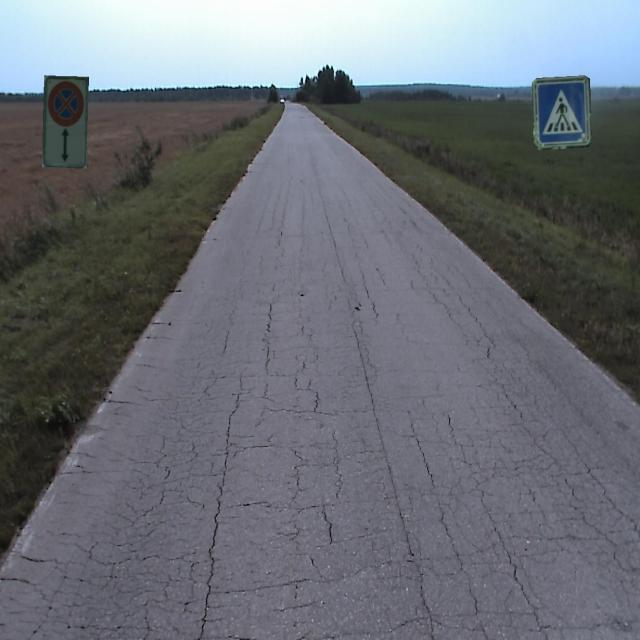road: (0, 105, 639, 639)
